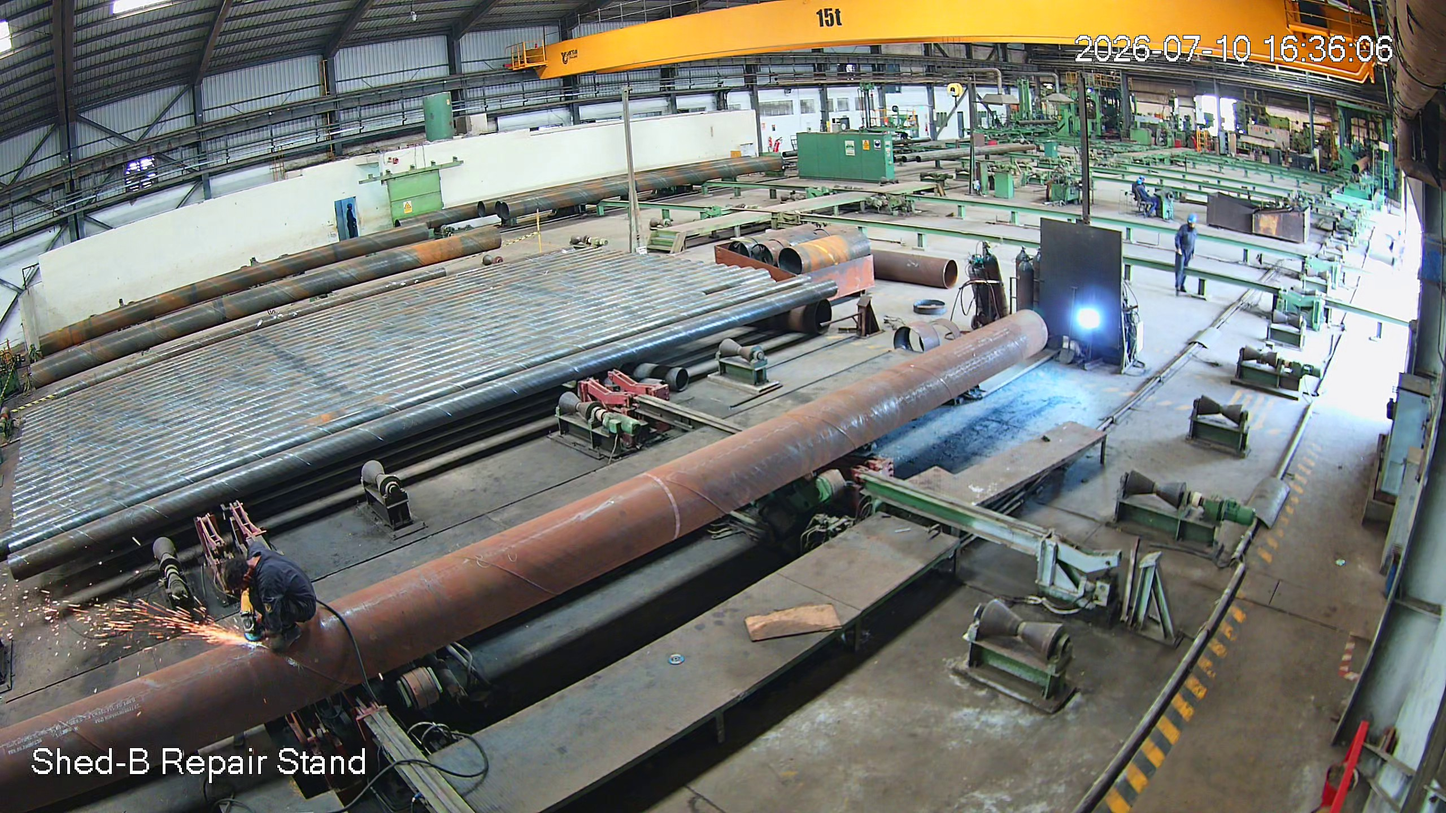Person: (210, 548, 327, 658)
